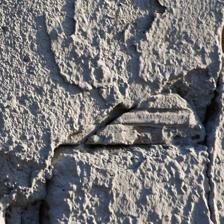Crack: (74, 71, 221, 154), (196, 150, 223, 224)
